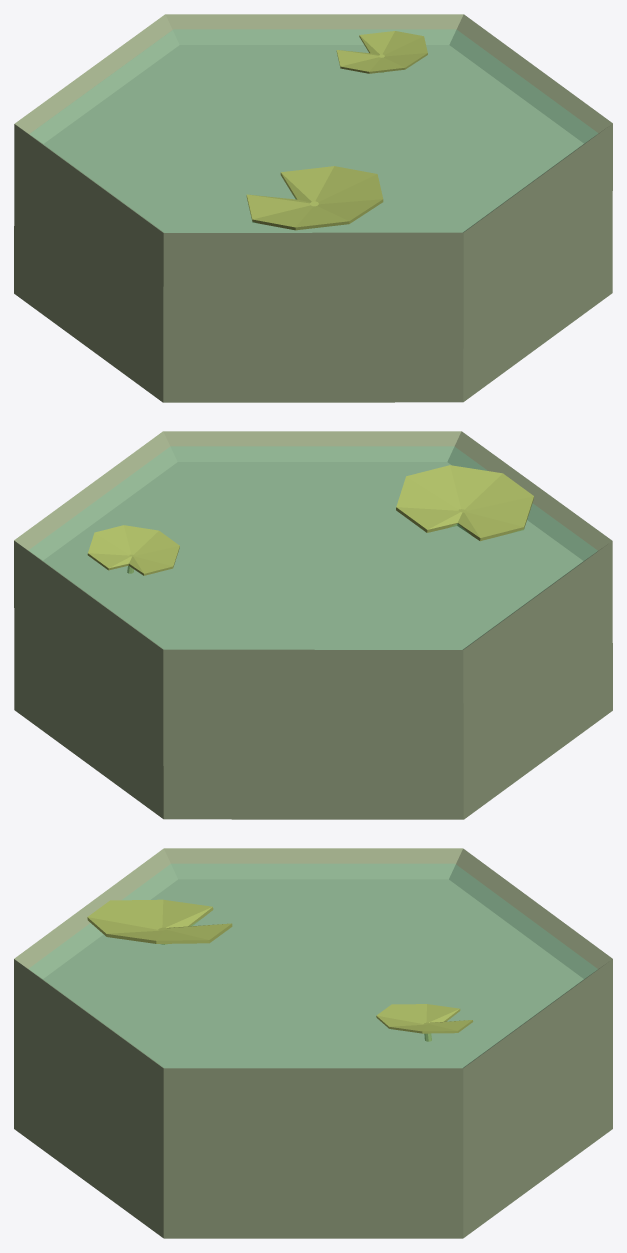
The model's file is 06_Tuile_Receptacle_01_V001.fbx.
3 views of the same model, one above another, from view 1: azimuth 30°, elevation 25°; view 2: azimuth 150°, elevation 25°; view 3: azimuth 270°, elevation 25° (orthographic).
Visible parts, largest first — view 1: Tuile_receptacle; view 2: Tuile_receptacle; view 3: Tuile_receptacle.
Part boxes in pixels (<box>): Tuile_receptacle: <box>14,14,612,402</box>; Tuile_receptacle: <box>14,431,612,819</box>; Tuile_receptacle: <box>14,848,612,1238</box>.
Bounding box in the file's own units: 1.74 × 0.6739 × 2.
